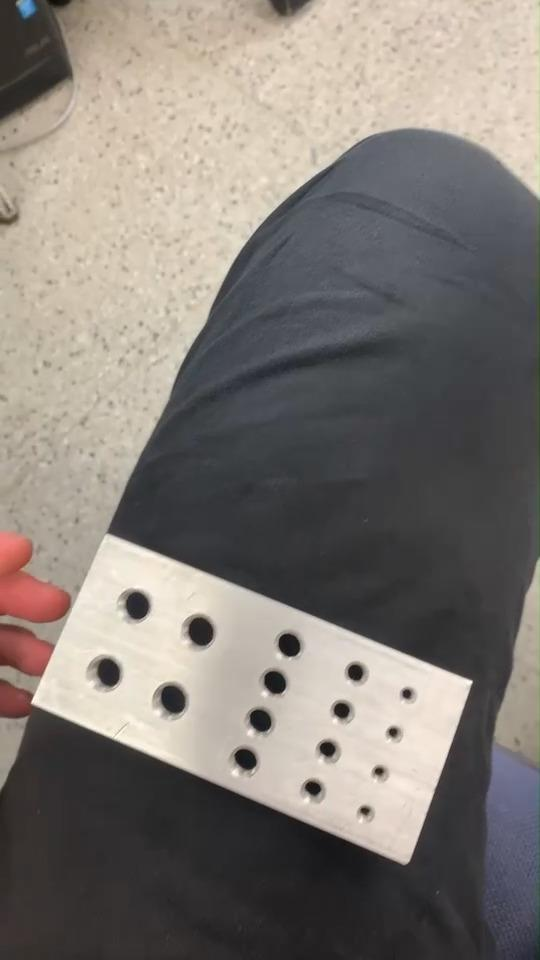hole: (150, 681, 192, 722), (85, 650, 125, 692), (114, 589, 155, 628), (181, 612, 220, 650), (226, 744, 262, 780), (272, 626, 307, 661), (242, 706, 278, 740), (257, 669, 291, 702), (313, 734, 343, 766), (326, 695, 357, 725), (340, 662, 369, 692), (296, 778, 326, 807), (366, 764, 388, 786), (383, 723, 404, 746), (397, 684, 418, 706), (354, 802, 374, 825)
